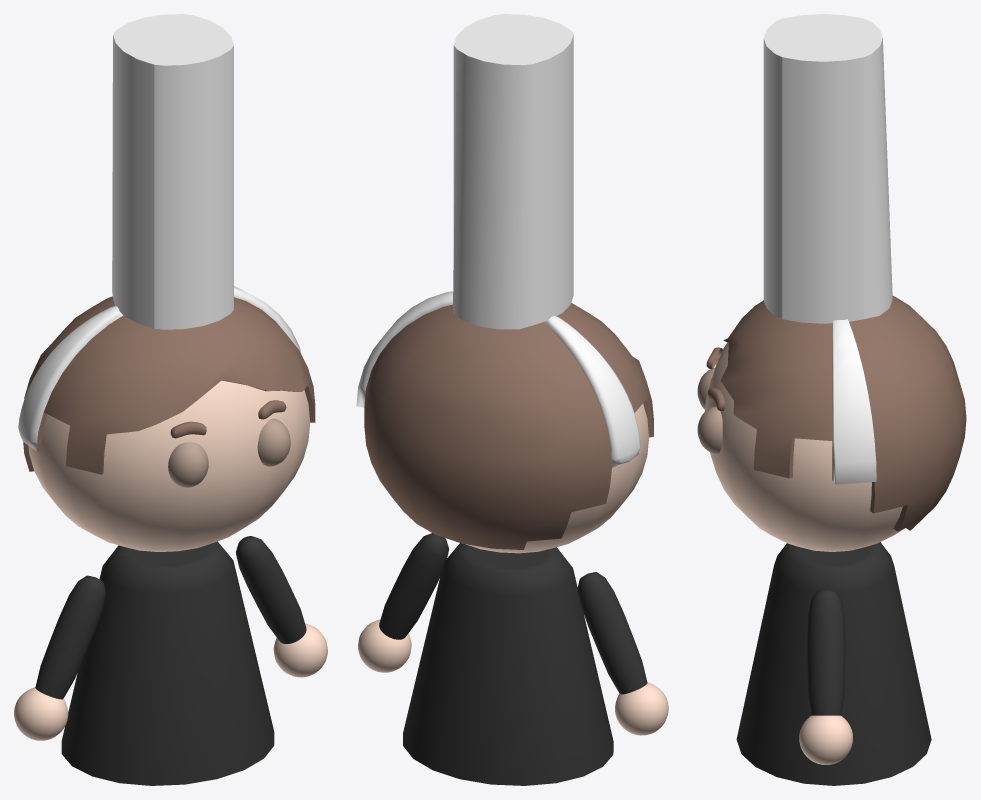
File: boss.fbx
3 views of the same model, side by side, from view 1: azimuth 30°, elevation 25°; view 2: azimuth 150°, elevation 25°; view 3: azimuth 270°, elevation 25° (orthographic).
Parts seen in each view (by area): view 1: polySurface10.001, polySurface9, polySurface14, polySurface13, polySurface15, polySurface17, yeux, polySurface16, polySurface18, sourcils; view 2: polySurface13, polySurface10.001, polySurface9, polySurface15, polySurface17, polySurface14, polySurface16, polySurface18; view 3: polySurface10.001, polySurface13, polySurface9, polySurface14, polySurface17, polySurface18, yeux, sourcils.
Boxes of the visible parts, x1,y1,x2,y2 form: polySurface10.001: (18,14,301,450); polySurface9: (61,541,274,785); polySurface14: (28,380,310,551); polySurface13: (23,296,315,474); polySurface15: (35,575,105,699); polySurface17: (236,536,306,643); yeux: (168,418,290,487); polySurface16: (14,687,68,740); polySurface18: (273,623,327,677); sourcils: (170,400,286,438); polySurface13: (364,303,653,549); polySurface10.001: (356,14,640,467); polySurface9: (403,543,613,785); polySurface15: (577,572,647,694); polySurface17: (379,533,448,639); polySurface14: (465,403,648,553); polySurface16: (615,682,668,735); polySurface18: (358,619,411,672); polySurface10.001: (763,14,892,484); polySurface13: (720,296,966,531); polySurface9: (736,542,931,785); polySurface14: (705,342,905,551); polySurface17: (807,589,845,715); polySurface18: (799,715,852,764); yeux: (697,368,722,454); sourcils: (706,347,724,410).
Bounding box in the file's own units: 130 × 285 × 99.17.
